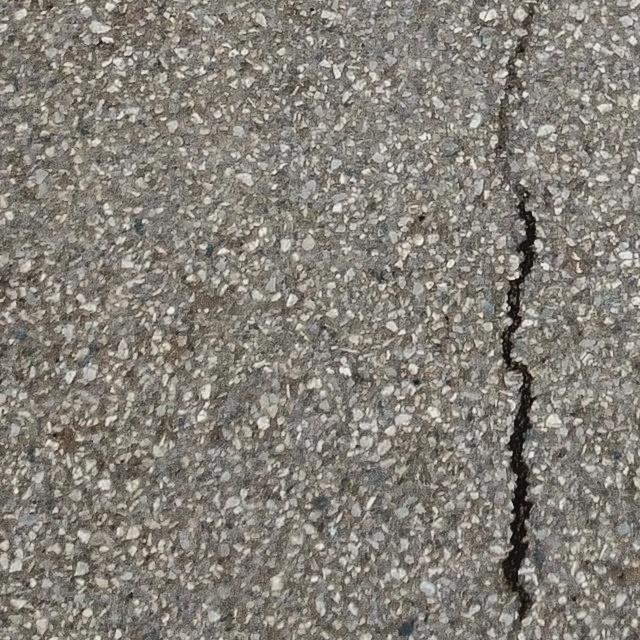LongitudinalCrack: (501, 188, 537, 623)
